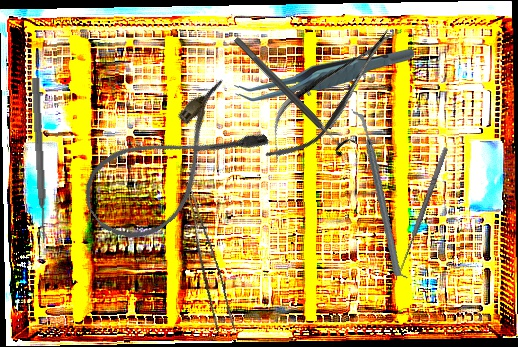Cannula: (70, 74, 274, 257)
Chopper: (321, 109, 432, 277)
Fixation Ring: (227, 30, 356, 159)
Hook Surgical: (394, 144, 455, 281)
Micro Scissor: (247, 14, 412, 176)
Pusher: (29, 77, 50, 244)
Tissue Forceps: (168, 180, 240, 336), (233, 47, 416, 103)
